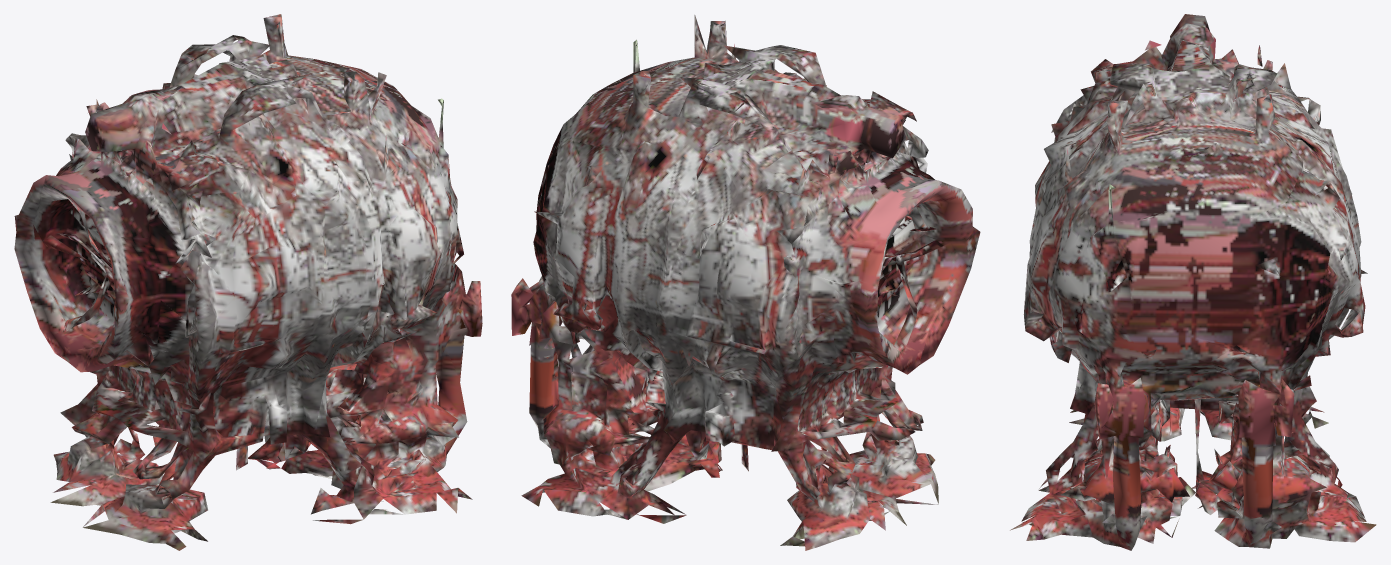
The model's file is render_crawler.glb.
The picture shows the model from 3 angles, left to right: view 1: azimuth 30°, elevation 25°; view 2: azimuth 150°, elevation 25°; view 3: azimuth 270°, elevation 25°; orthographic projection.
Visible parts, largest first — view 1: LP_baked; view 2: LP_baked; view 3: LP_baked.
Boxes of the visible parts, left/top/right/bottom form: LP_baked: left=14, top=14, right=482, bottom=550; LP_baked: left=511, top=15, right=980, bottom=550; LP_baked: left=1010, top=14, right=1376, bottom=550.
Bounding box in the file's own units: 1.83 × 1.97 × 1.59.
1 material, 1 textured.
